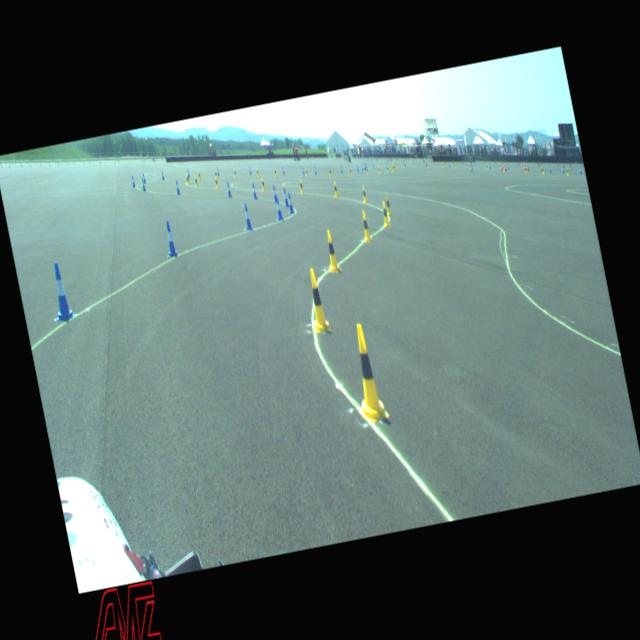blue_cone: (47, 262, 74, 322), (162, 219, 178, 257), (242, 202, 254, 231), (274, 197, 284, 221), (286, 192, 294, 213), (282, 188, 290, 208), (250, 182, 258, 200), (225, 181, 232, 198), (272, 185, 278, 202), (174, 180, 180, 196), (130, 175, 136, 188), (141, 178, 146, 192), (142, 172, 146, 184), (161, 170, 165, 180), (339, 165, 343, 174), (248, 166, 252, 175), (282, 166, 286, 175), (314, 166, 318, 174), (216, 168, 220, 176), (548, 166, 552, 173), (187, 169, 190, 178), (361, 164, 364, 172), (488, 162, 491, 170), (356, 165, 359, 172), (579, 167, 582, 174), (506, 163, 509, 170), (404, 161, 407, 167), (562, 166, 564, 174), (302, 166, 304, 174), (470, 161, 472, 168), (448, 162, 450, 168), (426, 162, 428, 167)
large_orange_cone: (526, 160, 530, 172), (522, 160, 526, 172), (499, 161, 503, 172), (503, 162, 507, 172)
yellow_cone: (345, 322, 390, 422), (302, 268, 332, 335), (322, 228, 342, 274), (359, 210, 373, 243), (380, 200, 390, 228), (384, 194, 393, 217), (361, 184, 368, 204), (332, 181, 340, 198), (298, 178, 304, 194), (214, 176, 219, 189), (261, 178, 266, 191), (194, 175, 198, 188), (198, 170, 202, 182), (186, 172, 190, 184), (214, 169, 218, 180), (328, 167, 332, 177), (234, 168, 238, 178), (565, 167, 569, 176), (274, 168, 278, 177), (304, 168, 308, 177), (377, 165, 381, 174), (187, 174, 190, 186), (348, 167, 352, 176), (366, 166, 370, 175), (524, 165, 528, 174), (391, 164, 395, 173), (256, 168, 260, 176), (541, 166, 545, 174), (502, 164, 506, 172), (392, 163, 396, 171), (468, 163, 472, 170), (386, 165, 389, 173), (412, 162, 416, 168), (392, 163, 395, 171), (403, 161, 406, 168), (396, 162, 399, 168), (441, 162, 444, 168), (453, 162, 456, 168), (486, 164, 488, 171), (426, 162, 428, 167)
